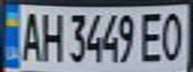3: (63, 10, 87, 63)
4: (100, 10, 121, 63), (84, 10, 103, 63)
9: (115, 10, 139, 63)
A: (15, 8, 45, 62)
E: (136, 9, 166, 63)
H: (36, 9, 66, 63)
O: (157, 9, 190, 63)
